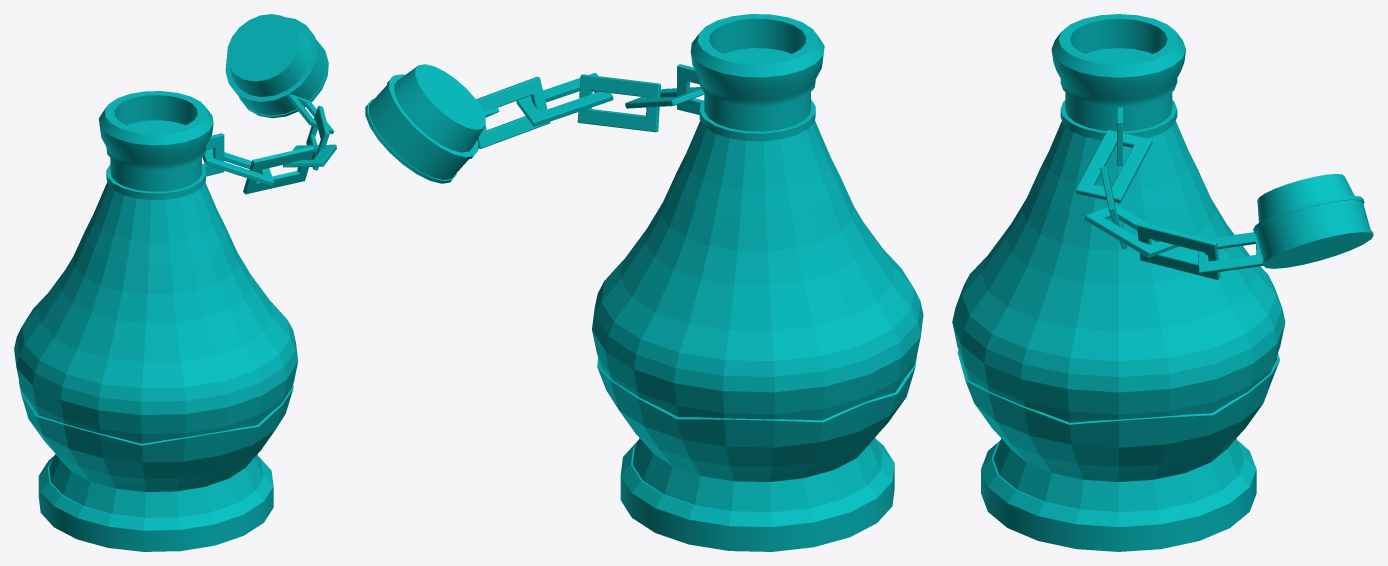
Rendered from potion.fbx.
3 views of the same model, side by side, from view 1: azimuth 30°, elevation 25°; view 2: azimuth 150°, elevation 25°; view 3: azimuth 270°, elevation 25° (orthographic). The views are drawn at different scales.
Visible parts, largest first — view 1: LowGlass1, LowBottom, Top, pCylinder1, pCube5, Chain, pCube7, pCube6, ChainStart, pCube8; view 2: LowGlass1, LowBottom, Top, pCylinder1, pCube5, pCube7, pCube6, Chain, ChainStart; view 3: LowGlass1, LowBottom, Top, pCylinder1, Chain, pCube7, pCube6, pCube8, pCube5.
Part boxes in pixels (bbox=[...]): LowGlass1: bbox=[14, 182, 298, 443]; LowBottom: bbox=[18, 381, 293, 551]; Top: bbox=[98, 91, 213, 199]; pCylinder1: bbox=[225, 14, 328, 118]; pCube5: bbox=[243, 146, 314, 194]; Chain: bbox=[202, 148, 274, 186]; pCube7: bbox=[306, 105, 329, 170]; pCube6: bbox=[283, 144, 336, 167]; ChainStart: bbox=[202, 133, 224, 176]; pCube8: bbox=[287, 94, 334, 134]; LowGlass1: bbox=[592, 120, 923, 420]; LowBottom: bbox=[597, 356, 916, 551]; Top: bbox=[690, 14, 824, 141]; pCylinder1: bbox=[365, 64, 485, 183]; pCube5: bbox=[577, 74, 660, 132]; pCube7: bbox=[476, 77, 550, 148]; pCube6: bbox=[516, 72, 613, 126]; Chain: bbox=[625, 87, 704, 108]; ChainStart: bbox=[677, 64, 703, 114]; LowGlass1: bbox=[952, 121, 1285, 422]; LowBottom: bbox=[957, 350, 1279, 551]; Top: bbox=[1051, 14, 1185, 140]; pCylinder1: bbox=[1253, 174, 1373, 268]; Chain: bbox=[1075, 130, 1152, 202]; pCube7: bbox=[1137, 222, 1220, 279]; pCube6: bbox=[1084, 204, 1178, 257]; pCube8: bbox=[1198, 232, 1263, 274]; pCube5: bbox=[1100, 167, 1127, 248].
Bounding box in the file's own units: 11.6 × 11.64 × 9.79.
